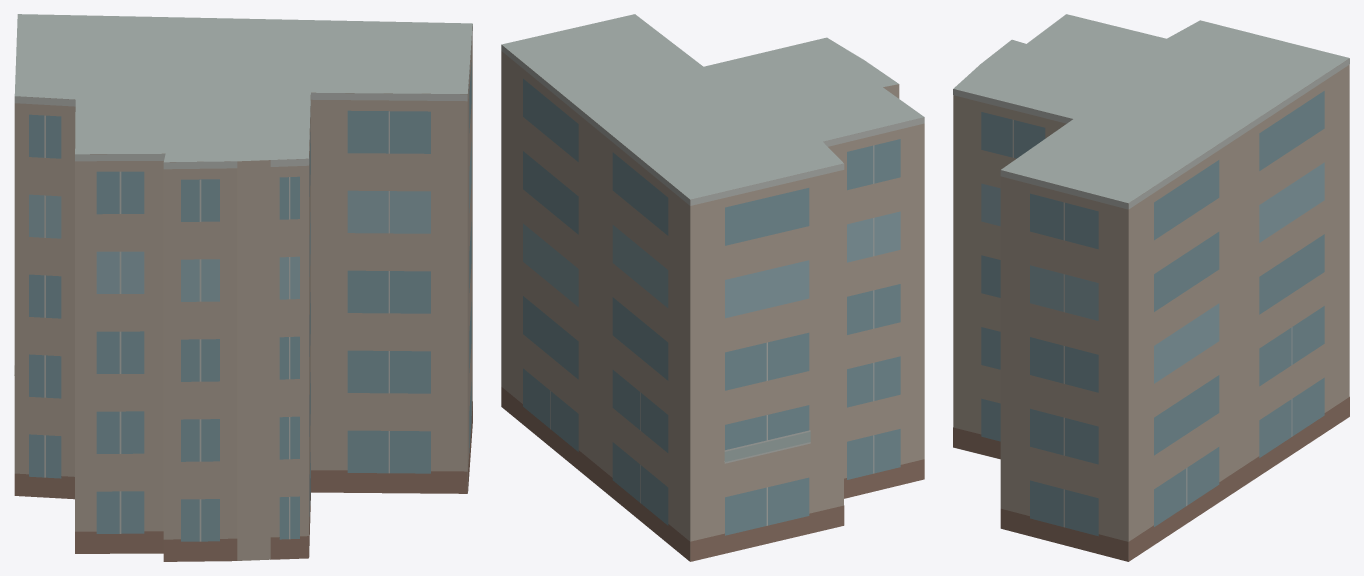
Rendered from survey-upis-32949421.glb.
The picture shows the model from 3 angles, left to right: view 1: azimuth 30°, elevation 25°; view 2: azimuth 150°, elevation 25°; view 3: azimuth 270°, elevation 25°; orthographic projection. The views are drawn at different scales.
Visible parts, largest first — view 1: survey-upis-32949421.tmp; view 2: survey-upis-32949421.tmp; view 3: survey-upis-32949421.tmp.
Part boxes in pixels (x1=…): survey-upis-32949421.tmp: x1=14, y1=14, x2=472, y2=561; survey-upis-32949421.tmp: x1=501, y1=14, x2=924, y2=561; survey-upis-32949421.tmp: x1=953, y1=14, x2=1349, y2=561.
Size of the model in its own units: 15.63 by 13.8 by 13.84.
